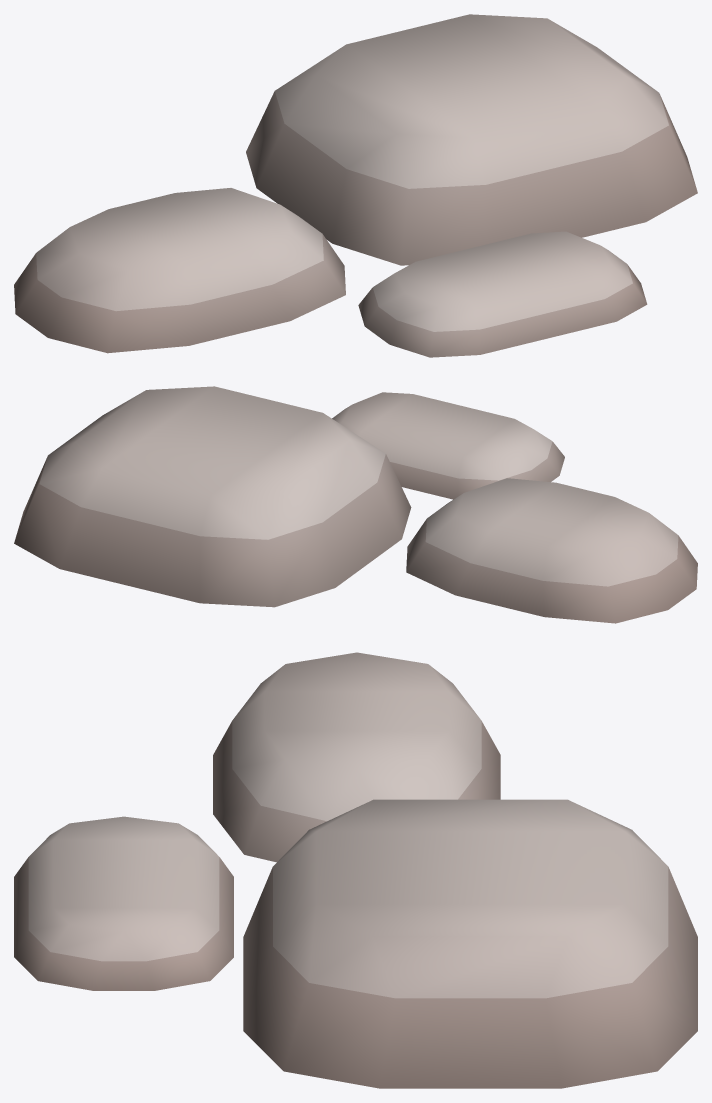
The model's file is Furniture_Stone_1.fbx.
3 renders of one model, top to bottom at view 1: azimuth 30°, elevation 25°; view 2: azimuth 150°, elevation 25°; view 3: azimuth 270°, elevation 25°, orthographic. The views are drawn at different scales.
Parts seen in each view (by area): view 1: Furniture_Stone_1; view 2: Furniture_Stone_1; view 3: Furniture_Stone_1.
Boxes of the visible parts, box(x1,y1,x2,y2) form: Furniture_Stone_1: box(14, 14, 697, 357); Furniture_Stone_1: box(14, 386, 697, 623); Furniture_Stone_1: box(14, 652, 697, 1088).
Bounding box in the file's own units: 138 × 19.09 × 102.
